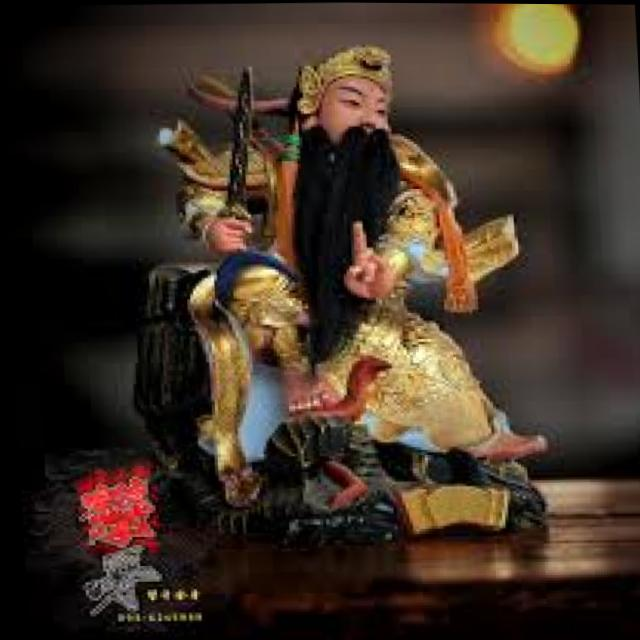Xuan wu: (151, 37, 551, 475)
